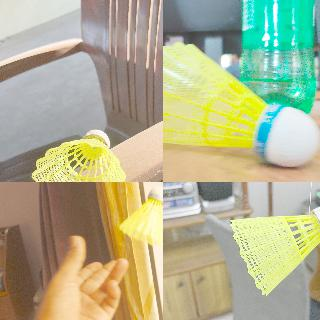shuttlecock: (163, 41, 319, 168), (230, 203, 319, 296), (31, 129, 125, 181), (119, 186, 162, 246)
